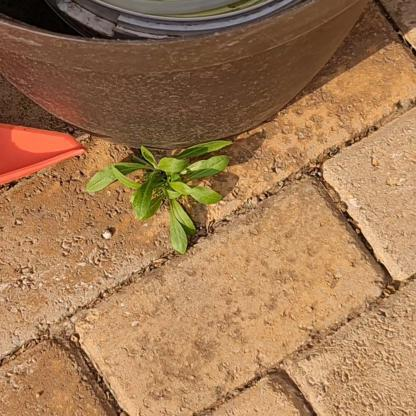Weeds: (83, 139, 236, 254)
